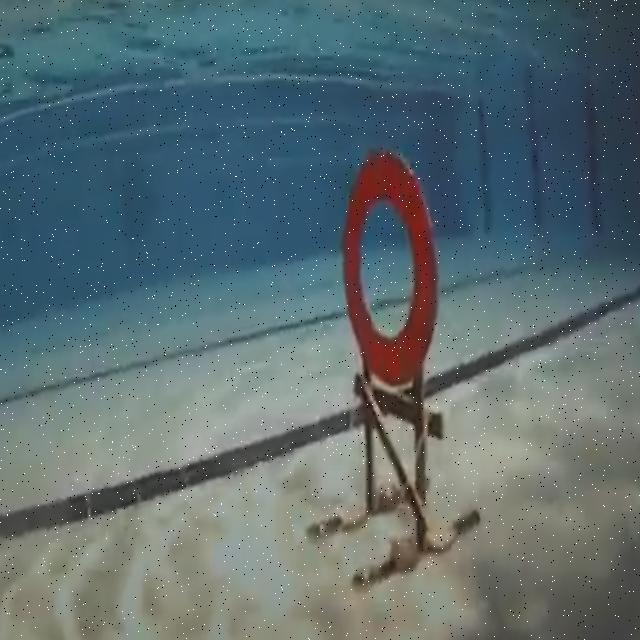Circle: (339, 148, 436, 392)
